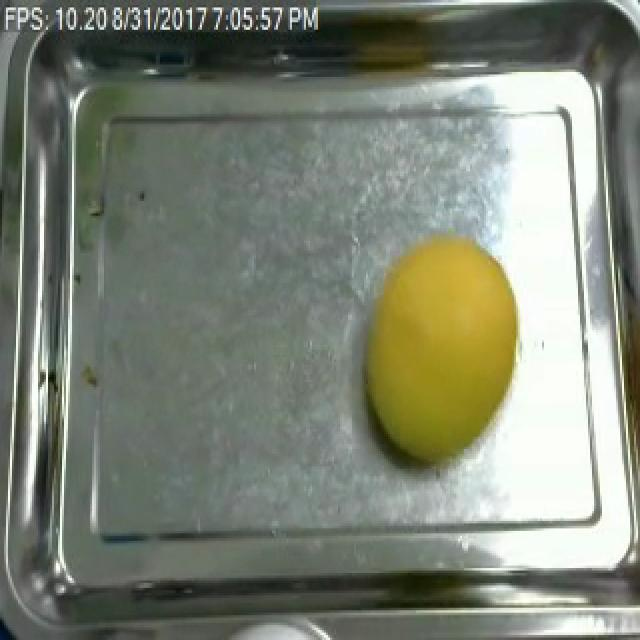fruit: (348, 221, 536, 481)
